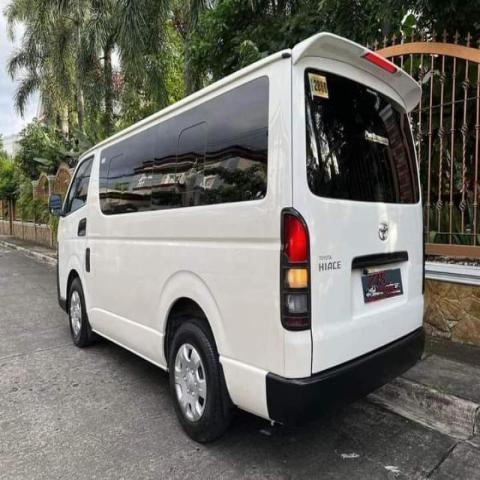van: (46, 18, 429, 452)
